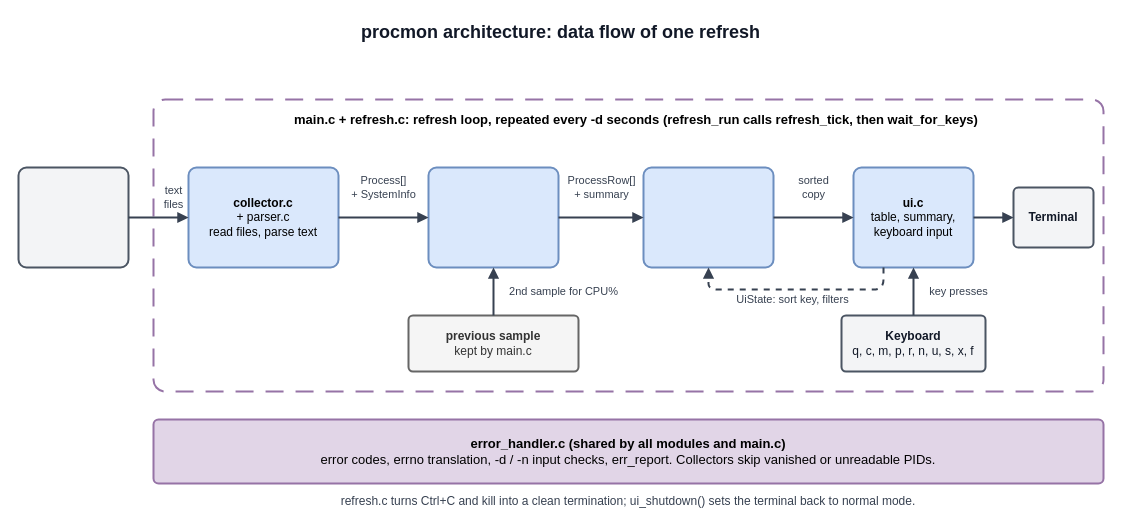
Some shapes in this 1121 by 530 pixel diagram are drawn without their labels. Here are the shapes that lost their labels. From the top down, the centre of each, then its label:
At point 73,217: "/proc virtual files from the kernel".
At point 493,217: "metrics.c CPU% and MEM% (two samples)".
At point 708,217: "filter_sort.c filter by name/user/ state, sort by key".
